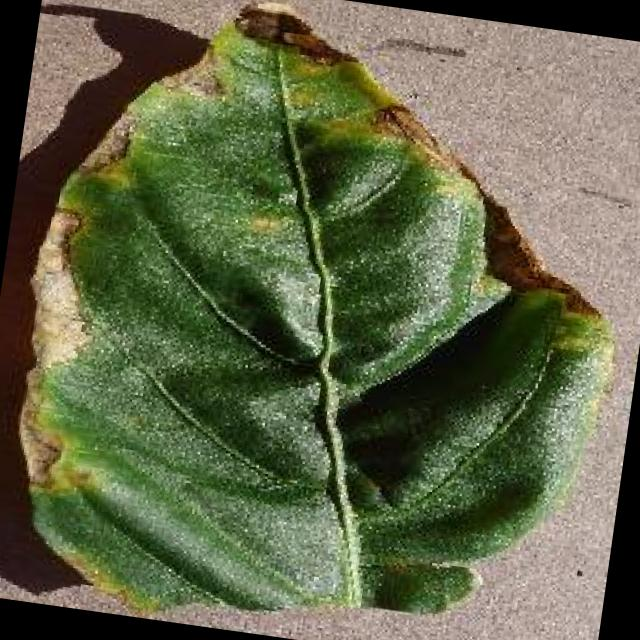Chilli_Bacterial_Spot: (0, 0, 640, 640), (228, 0, 316, 51), (243, 206, 284, 238)
